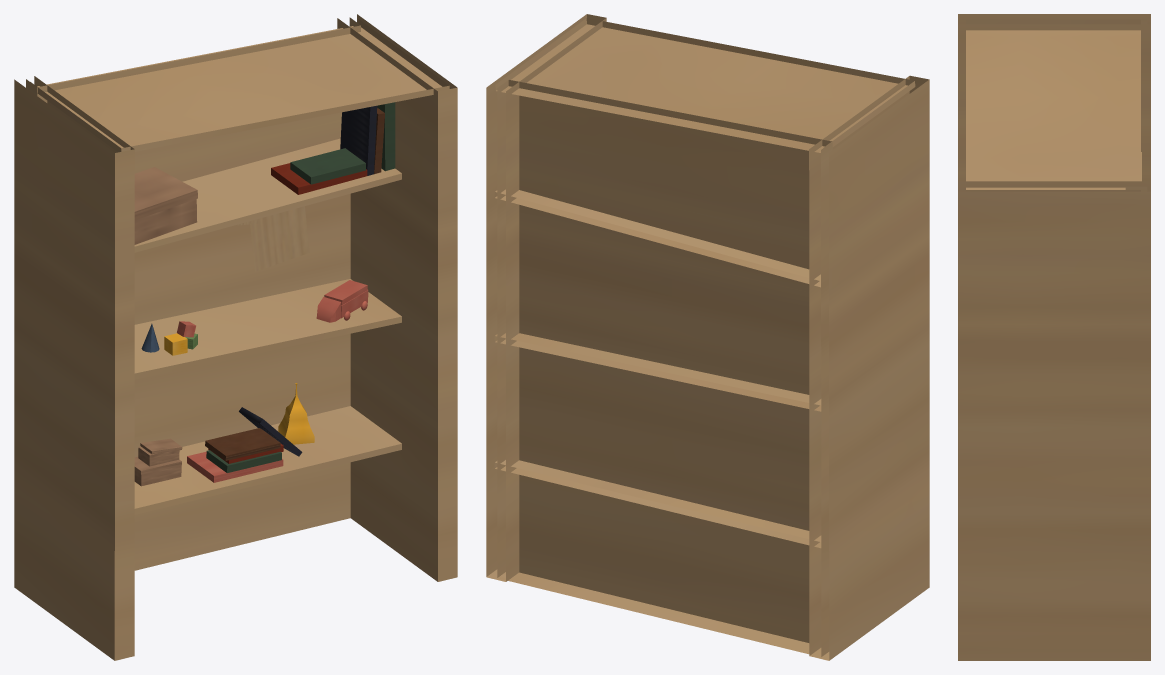
The model's file is estanteria.fbx.
3 renders of one model, left to right at view 1: azimuth 30°, elevation 25°; view 2: azimuth 150°, elevation 25°; view 3: azimuth 270°, elevation 25°, orthographic. The views are drawn at different scales.
Visible parts, largest first — view 1: Cube.011; view 2: Cube.011; view 3: Cube.011.
Boxes of the visible parts, <box> form: Cube.011: <box>14,14,457,660</box>; Cube.011: <box>486,14,929,660</box>; Cube.011: <box>958,14,1150,660</box>.
Size of the model in its own units: 144 by 204 by 73.2.
